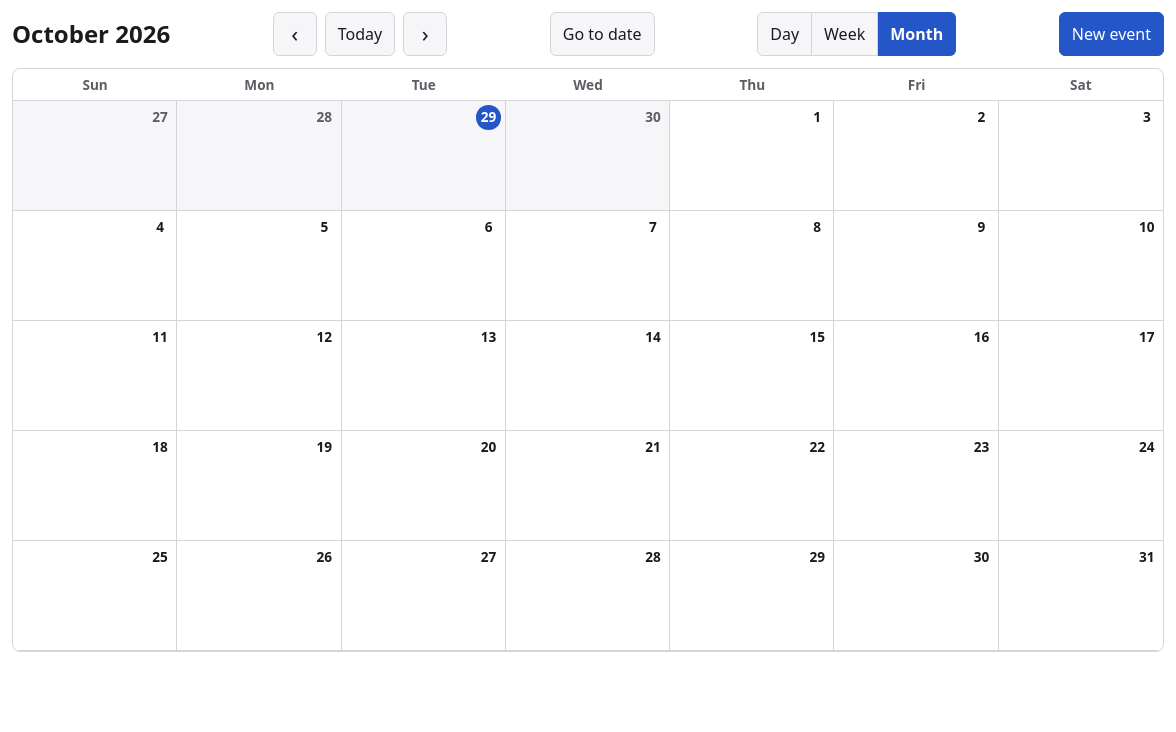
Test case: CalendarScreen: moving through time (US2) › treats a touch swipe on the view like Next, with native vertical scrolling (FR-008a)
Click the button "Day" at (785, 34), box [757,12,812,56]
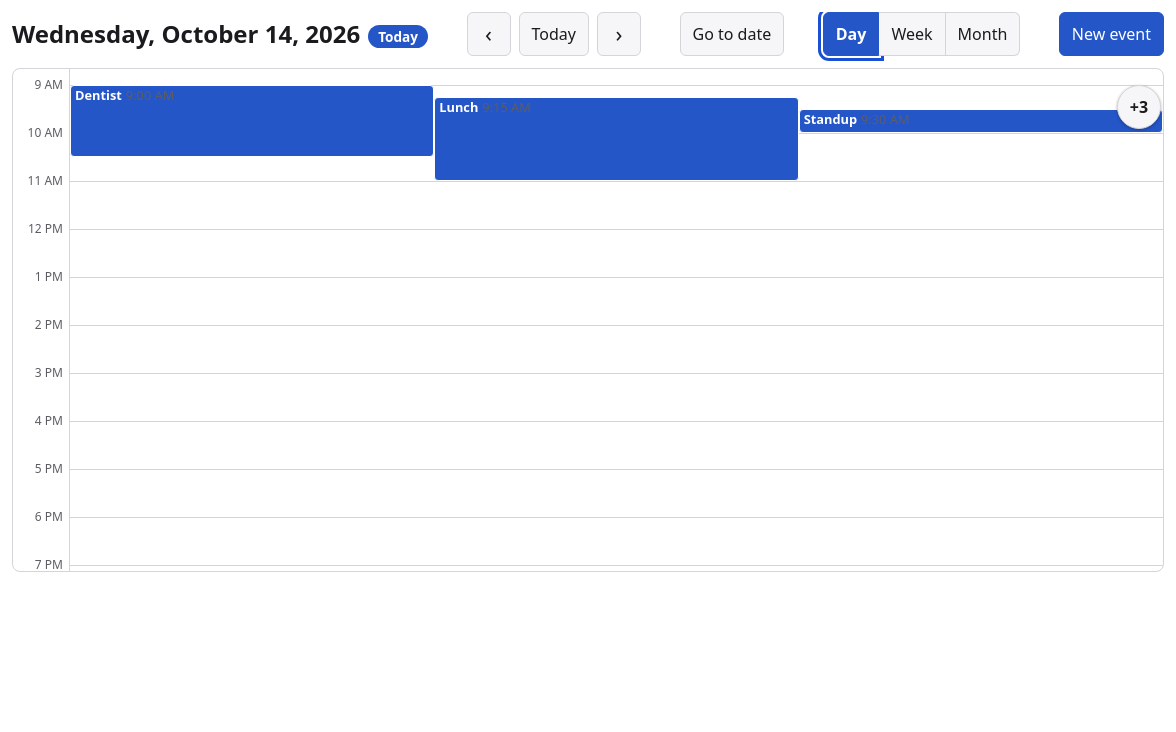
Press the mouse on the element that starts with "1 AM" at (588, 320), box [12,68,1164,572]
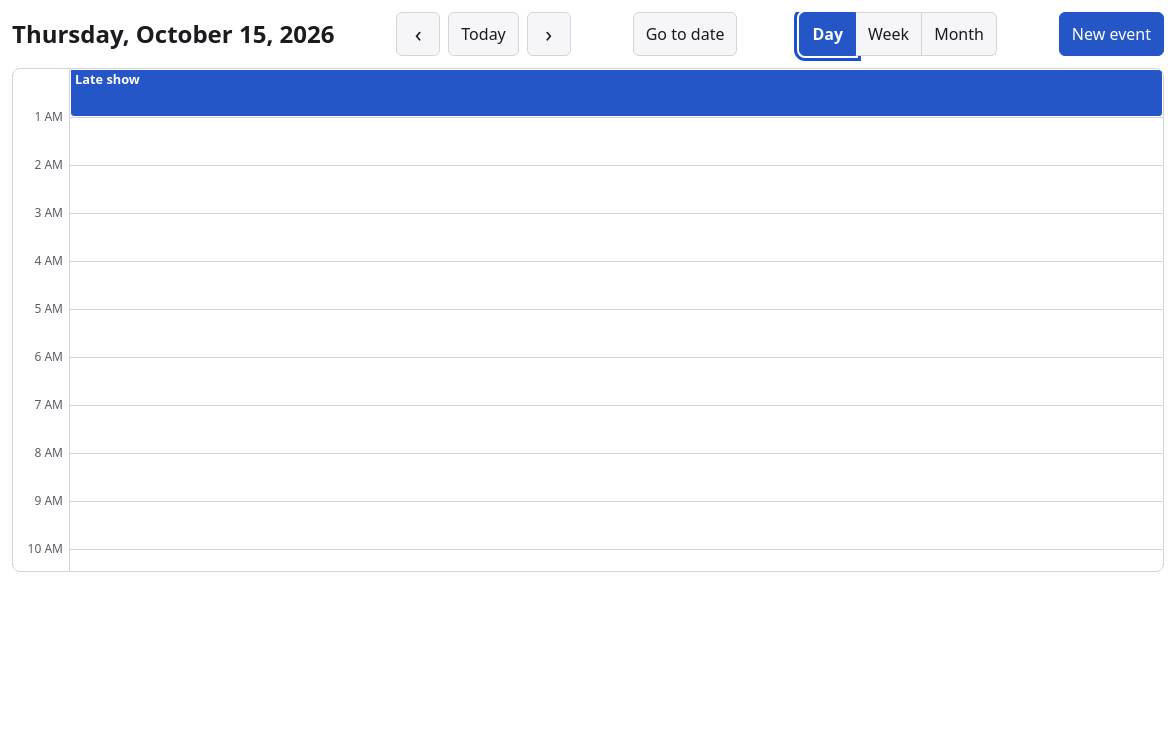
Expected: the heading "Thursday, October 15, 2026" is shown, [12,17,334,51]
